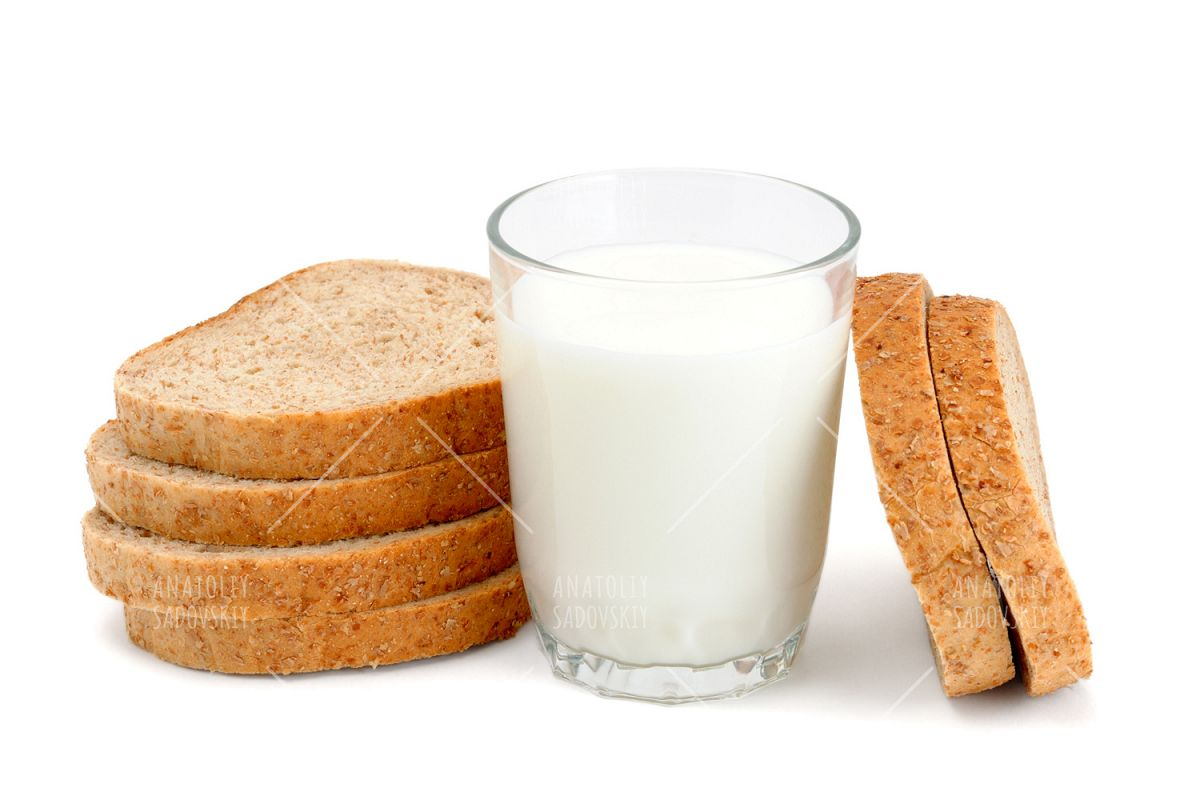glass of milk: (481, 181, 835, 721)
slice of bread: (108, 309, 417, 681), (869, 281, 1072, 730)
